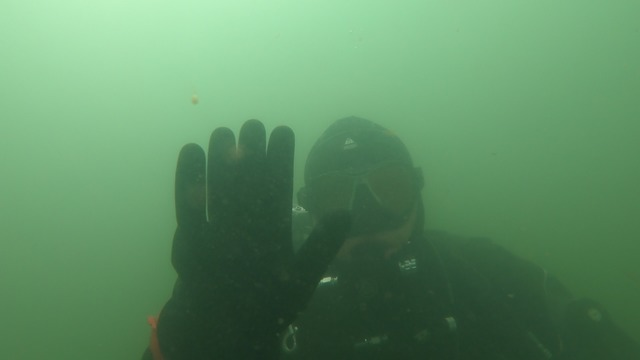Hand: (152, 113, 357, 334)
Head: (301, 122, 444, 297)
